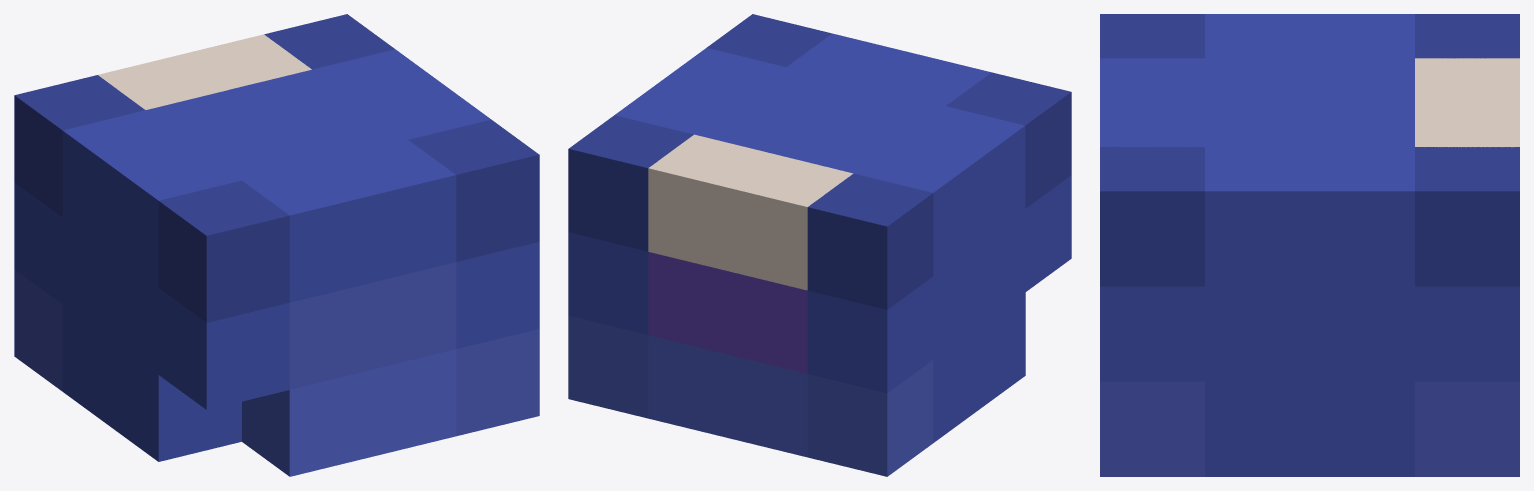
File: Shaman Body.obj
3 views of the same model, side by side, from view 1: azimuth 30°, elevation 25°; view 2: azimuth 150°, elevation 25°; view 3: azimuth 270°, elevation 25° (orthographic). The views are drawn at different scales.
Parts seen in each view (by area): view 1: Shaman Body; view 2: Shaman Body; view 3: Shaman Body.
Part boxes in pixels (x1,y1,x2,y2): Shaman Body: (14,14,539,476); Shaman Body: (568,14,1071,476); Shaman Body: (1100,14,1519,476).
Size of the model in its own units: 4 by 3 by 4.
1 material, 1 textured.
